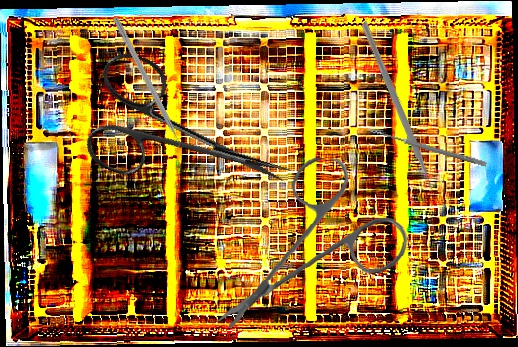Chopper: (298, 20, 491, 205), (105, 16, 186, 156)
Iris Scissors: (72, 46, 310, 229), (215, 151, 413, 341)
Surgical Spoon: (367, 127, 488, 167)
